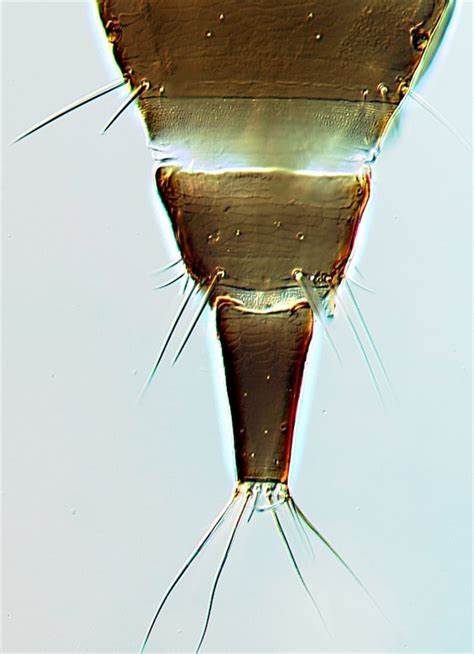Phlaeothripidae: (47, 1, 474, 645)
